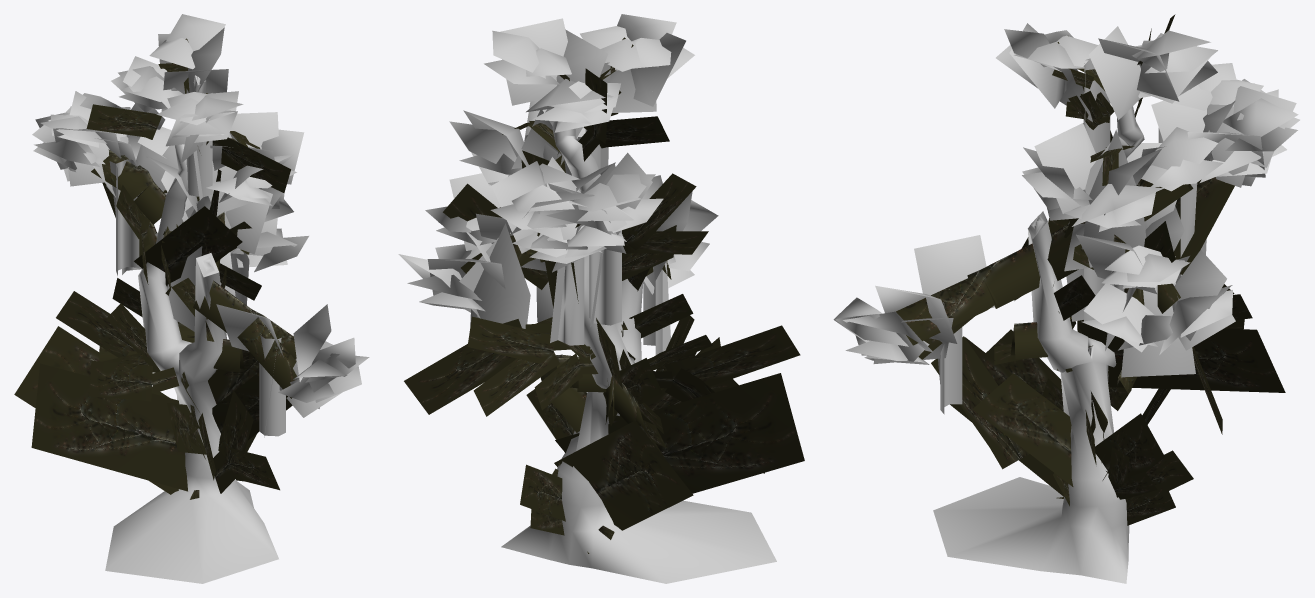
File: tree3.FBX
3 views of the same model, side by side, from view 1: azimuth 30°, elevation 25°; view 2: azimuth 150°, elevation 25°; view 3: azimuth 270°, elevation 25° (orthographic). The views are drawn at different scales.
Parts seen in each view (by area): view 1: Tree3; view 2: Tree3; view 3: Tree3.
Part boxes in pixels (x1,y1,x2,y2): Tree3: (14,14,369,583); Tree3: (398,14,804,583); Tree3: (833,14,1299,583).
Size of the model in its own units: 239 by 354 by 283.
